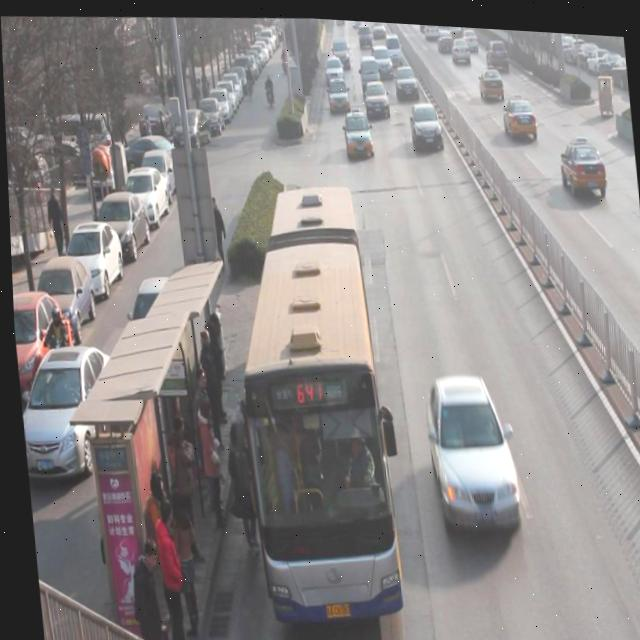car: (419, 367, 519, 533), (557, 129, 607, 195), (407, 96, 444, 149), (500, 87, 537, 138), (342, 104, 374, 157), (363, 75, 390, 116), (477, 61, 505, 98), (393, 60, 420, 98), (327, 74, 351, 111), (484, 34, 510, 68), (371, 40, 394, 74), (325, 54, 345, 76)
truck: (358, 52, 381, 94)
van: (226, 176, 401, 623)
